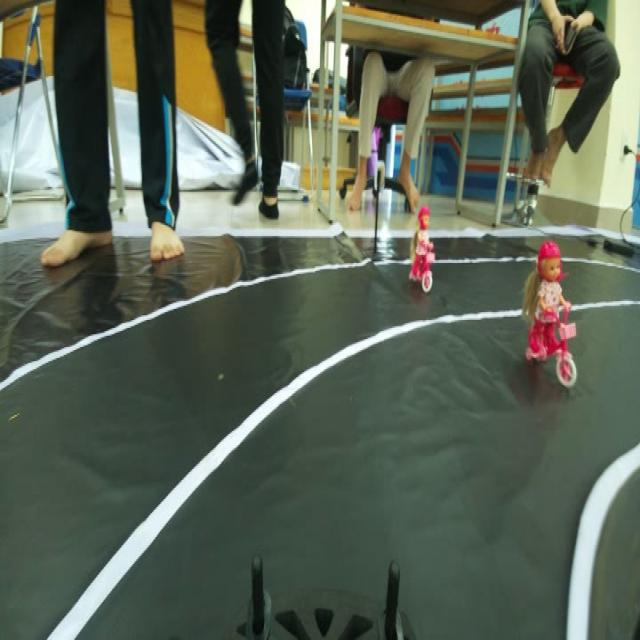pedestrian: (519, 242, 584, 393), (401, 198, 447, 296)
